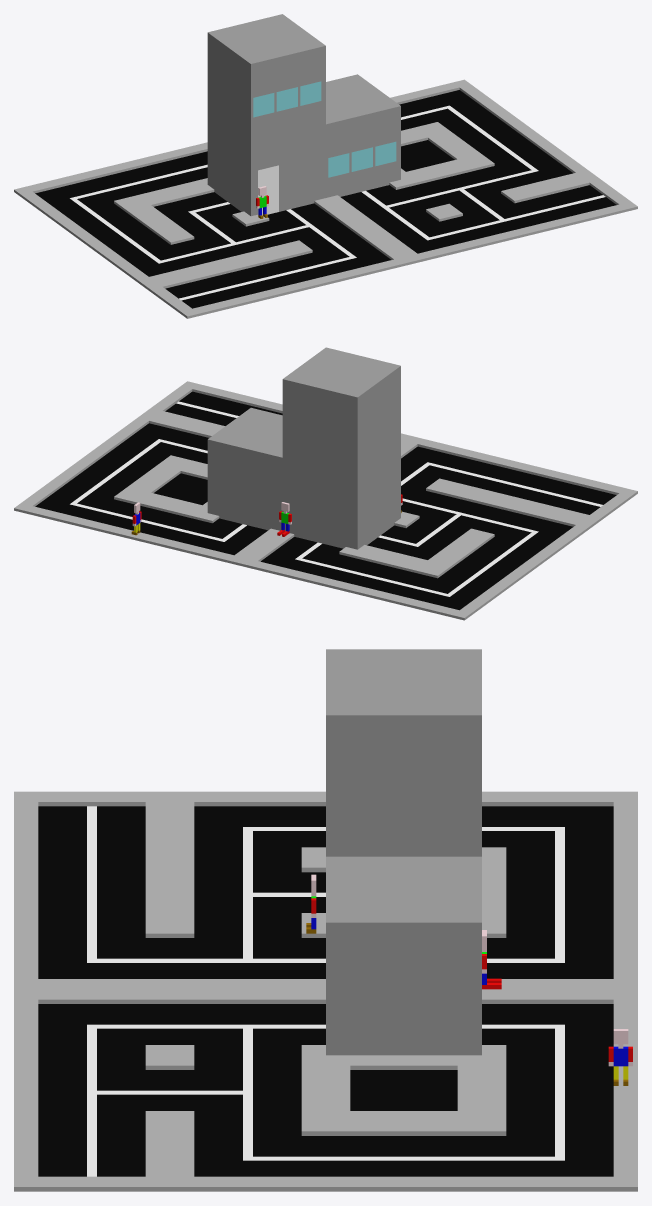
Rendered from city.gltf.
The picture shows the model from 3 angles, top to bottom: view 1: azimuth 30°, elevation 25°; view 2: azimuth 150°, elevation 25°; view 3: azimuth 270°, elevation 25°; orthographic projection. The views are drawn at different scales.
Parts seen in each view (by area): view 1: mesh (×109); view 2: mesh (×97); view 3: mesh (×102).
Boxes of the visible parts, x1=… form: mesh (×109): x1=14, y1=14, x2=637, y2=318; mesh (×97): x1=14, y1=348, x2=637, y2=620; mesh (×102): x1=14, y1=651, x2=637, y2=1191.
Bounding box in the file's own units: 192 × 64 × 128.
